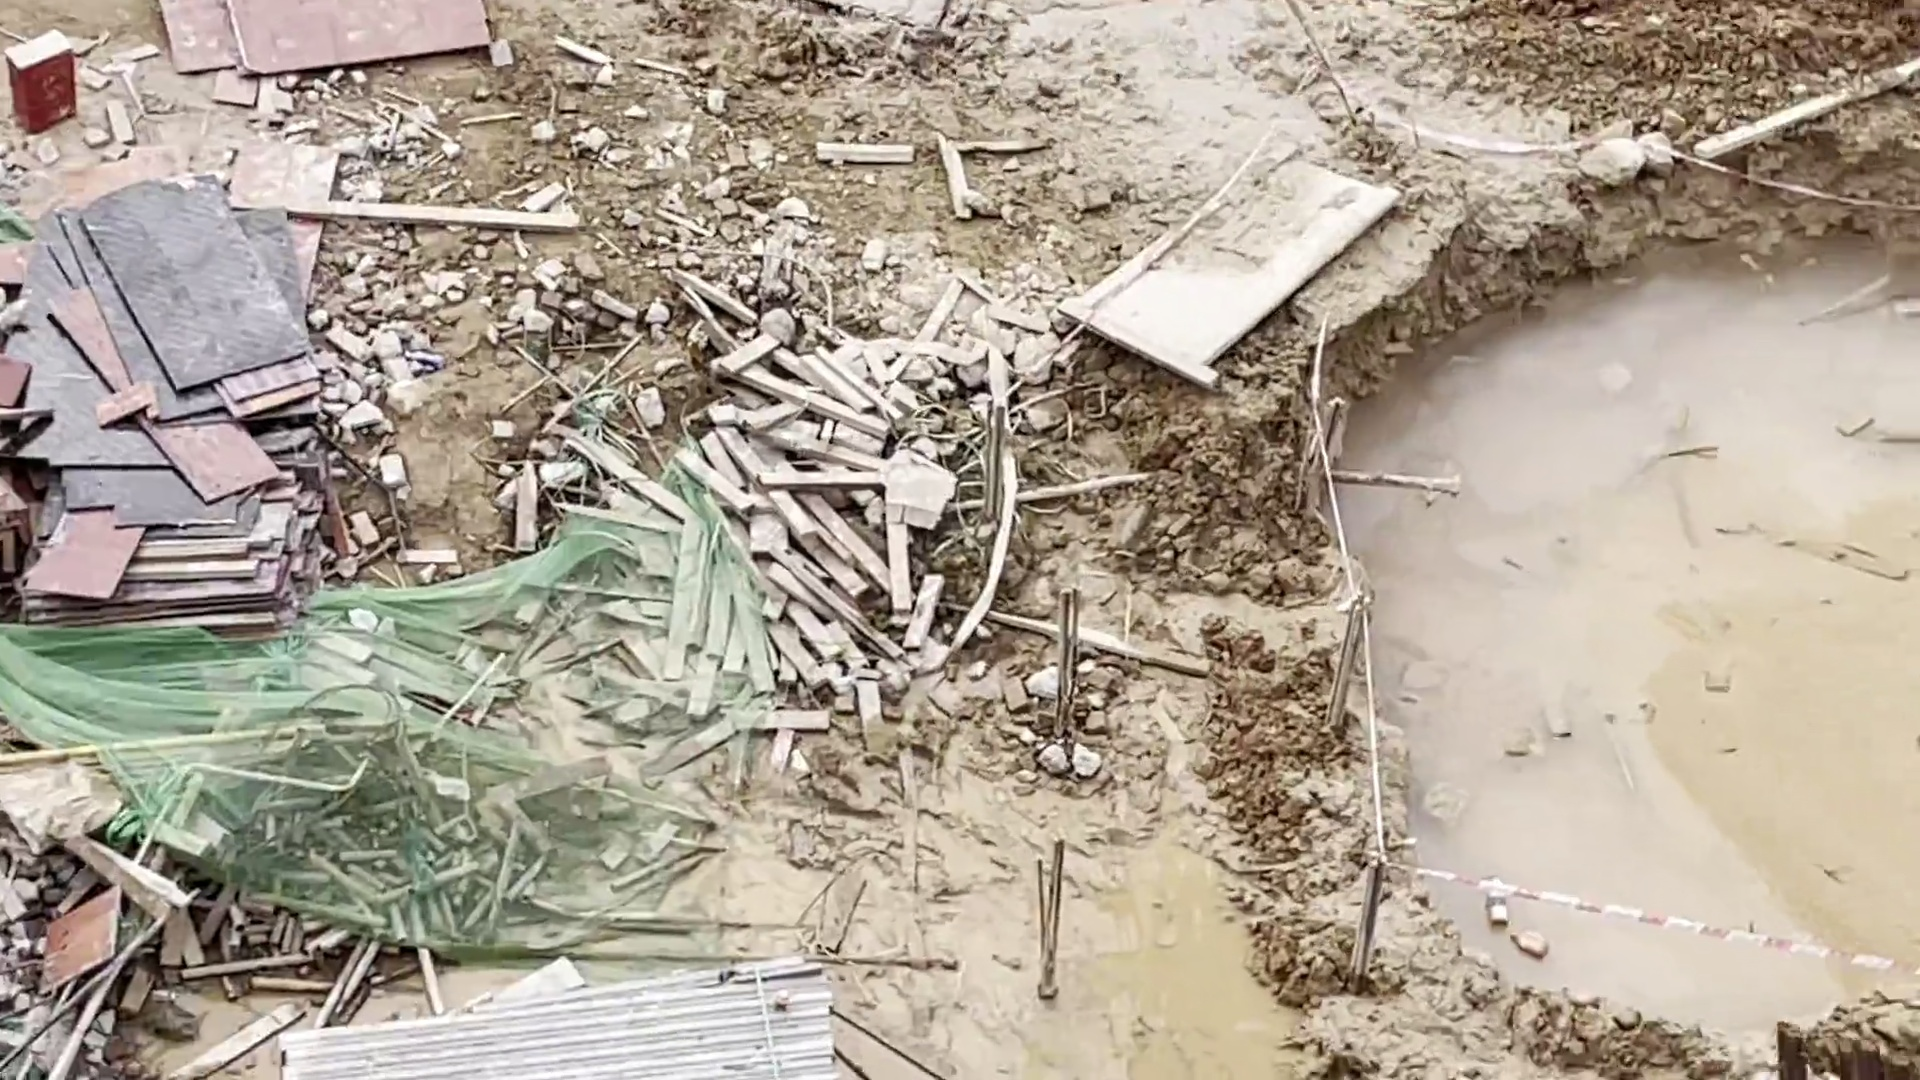board: (22, 195, 295, 642)
